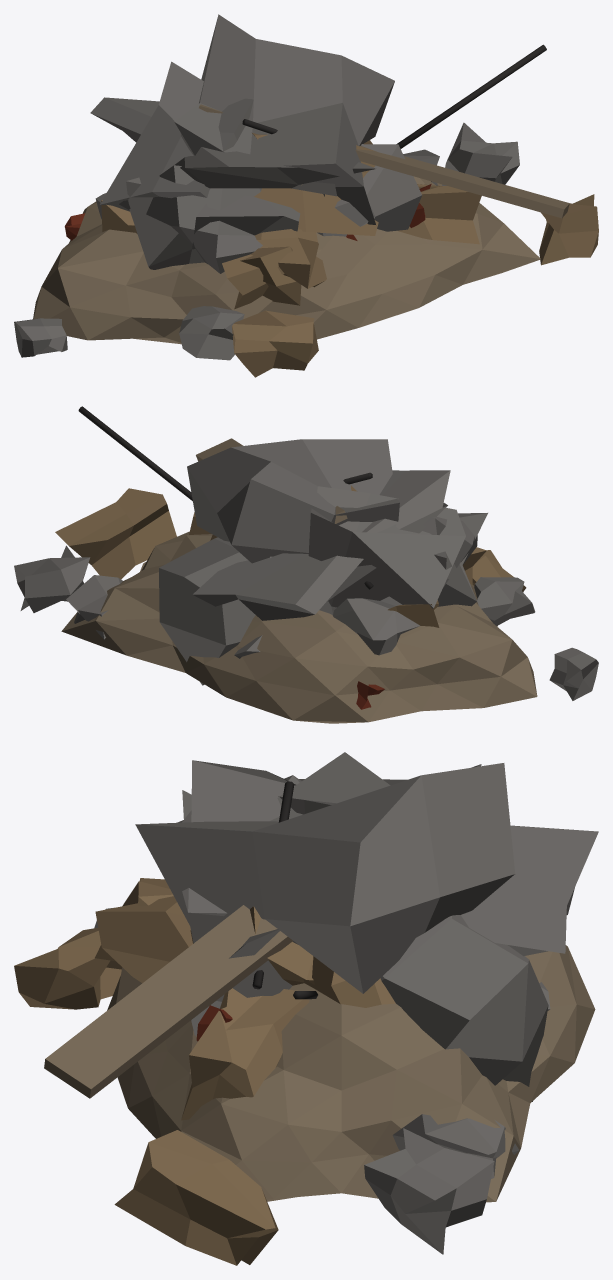
File: cover_rubble_3.glb
The picture shows the model from 3 angles, top to bottom: view 1: azimuth 30°, elevation 25°; view 2: azimuth 150°, elevation 25°; view 3: azimuth 270°, elevation 25°; orthographic projection. The views are drawn at different scales.
Parts seen in each view (by area): view 1: mound, lump_18, lump_33, slab, lump_31, lump_7, lump_30, lump_5, plank, lump_17, lump_13, lump_21 (+7 smaller); view 2: mound, lump_18, slab, lump_33, lump_3, lump_35, lump_24, lump_11, lump_29, lump_28, lump_31, lump_12 (+6 smaller); view 3: lump_18, mound, lump_3, slab, plank, lump_35, lump_24, lump_13, lump_30, lump_5, lump_12, lump_20 (+3 smaller).
Boxes of the visible parts, x1,y1,x2,y2 form: mound: [33, 176, 540, 344]; lump_18: [174, 14, 394, 224]; lump_33: [99, 61, 253, 211]; slab: [90, 97, 376, 196]; lump_31: [126, 177, 300, 269]; lump_7: [119, 165, 262, 273]; lump_30: [232, 310, 318, 377]; lump_5: [222, 229, 326, 309]; plank: [199, 104, 569, 218]; lump_17: [317, 144, 422, 236]; lump_13: [397, 184, 481, 244]; lump_21: [252, 133, 378, 235]; mound: [61, 531, 537, 723]; lump_18: [187, 439, 399, 563]; slab: [192, 470, 450, 620]; lump_33: [308, 486, 465, 614]; lump_3: [159, 537, 255, 685]; lump_35: [55, 488, 176, 579]; lump_24: [14, 545, 90, 612]; lump_11: [332, 598, 419, 655]; lump_29: [474, 577, 535, 625]; lump_28: [549, 647, 598, 700]; lump_31: [434, 513, 487, 606]; lump_12: [66, 575, 122, 640]; lump_18: [135, 752, 515, 993]; mound: [107, 945, 595, 1202]; lump_3: [380, 915, 548, 1101]; slab: [182, 760, 598, 956]; plank: [44, 905, 292, 1098]; lump_35: [114, 1130, 278, 1265]; lump_24: [364, 1128, 494, 1254]; lump_13: [181, 988, 309, 1120]; lump_30: [14, 927, 122, 1009]; lump_5: [95, 878, 192, 983]; lump_12: [392, 1114, 519, 1178]; lump_20: [303, 956, 395, 1007].
Size of the model in its own units: 2.78 by 1.11 by 1.74.
